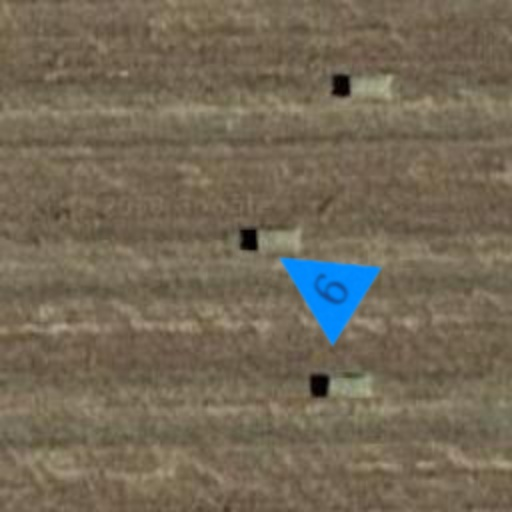triangle: (252, 216, 384, 348)
